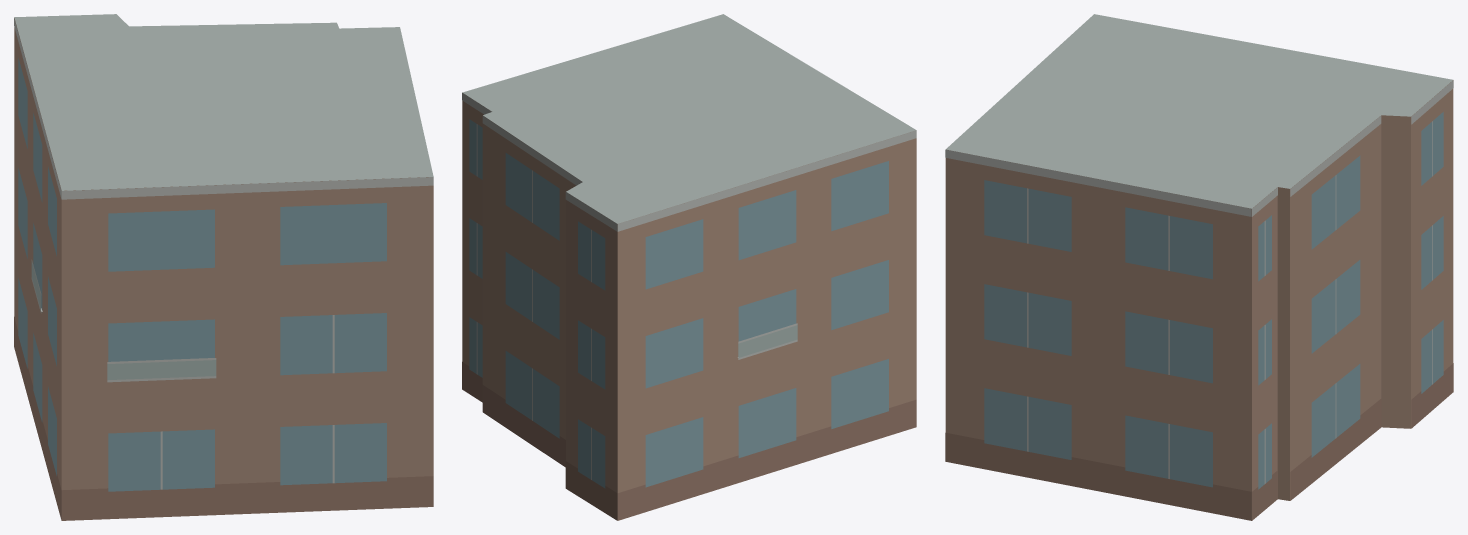
File: survey-upis-32917588.glb
3 renders of one model, left to right at view 1: azimuth 30°, elevation 25°; view 2: azimuth 150°, elevation 25°; view 3: azimuth 270°, elevation 25°, orthographic. The views are drawn at different scales.
Parts seen in each view (by area): view 1: survey-upis-32917588.tmp; view 2: survey-upis-32917588.tmp; view 3: survey-upis-32917588.tmp.
Part boxes in pixels (<box>): survey-upis-32917588.tmp: <box>14,14,433,520</box>; survey-upis-32917588.tmp: <box>462,14,916,520</box>; survey-upis-32917588.tmp: <box>945,14,1453,520</box>.
Size of the model in its own units: 12.25 by 9.15 by 13.5.
